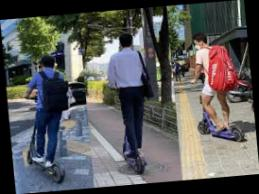nonhelmet: (101, 31, 161, 177), (16, 53, 79, 187), (187, 28, 249, 147)
